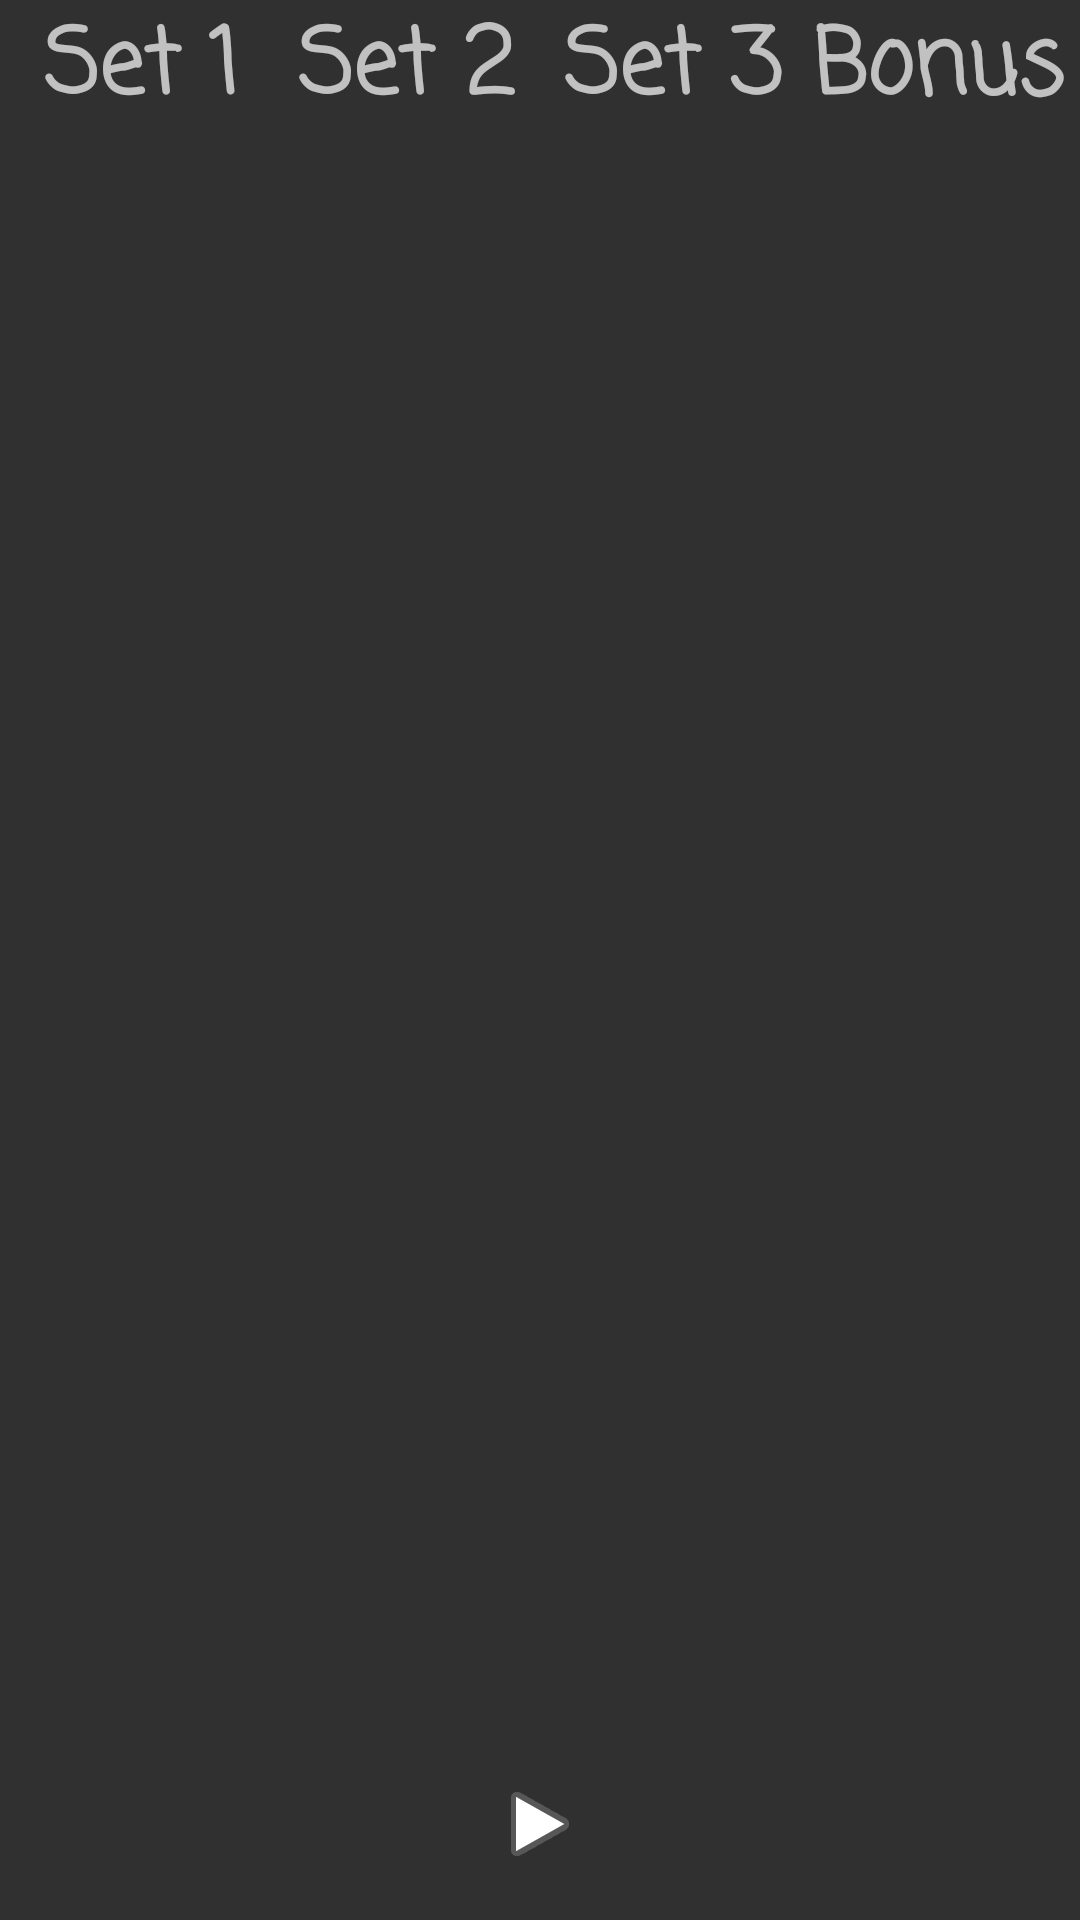

Icon click points for this 1080 x 1920 phone screenshot, format (x=x, y=y):
play: (x=540, y=1824)
